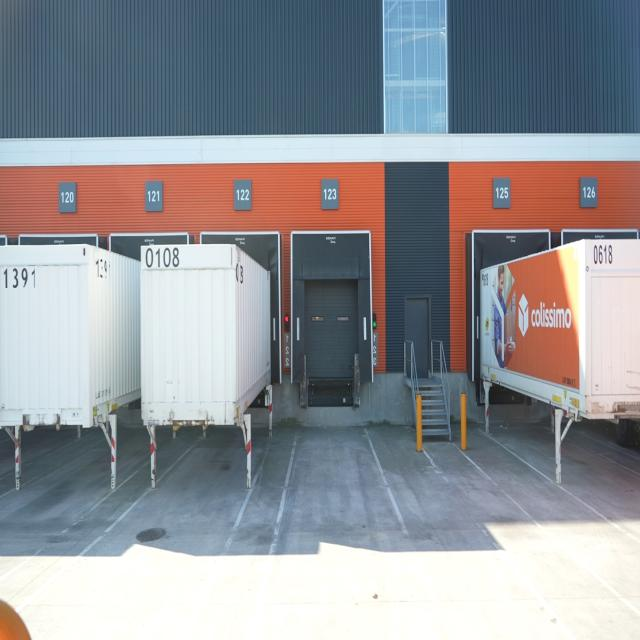Code: (2, 264, 40, 301), (141, 243, 183, 275), (592, 242, 614, 274)
